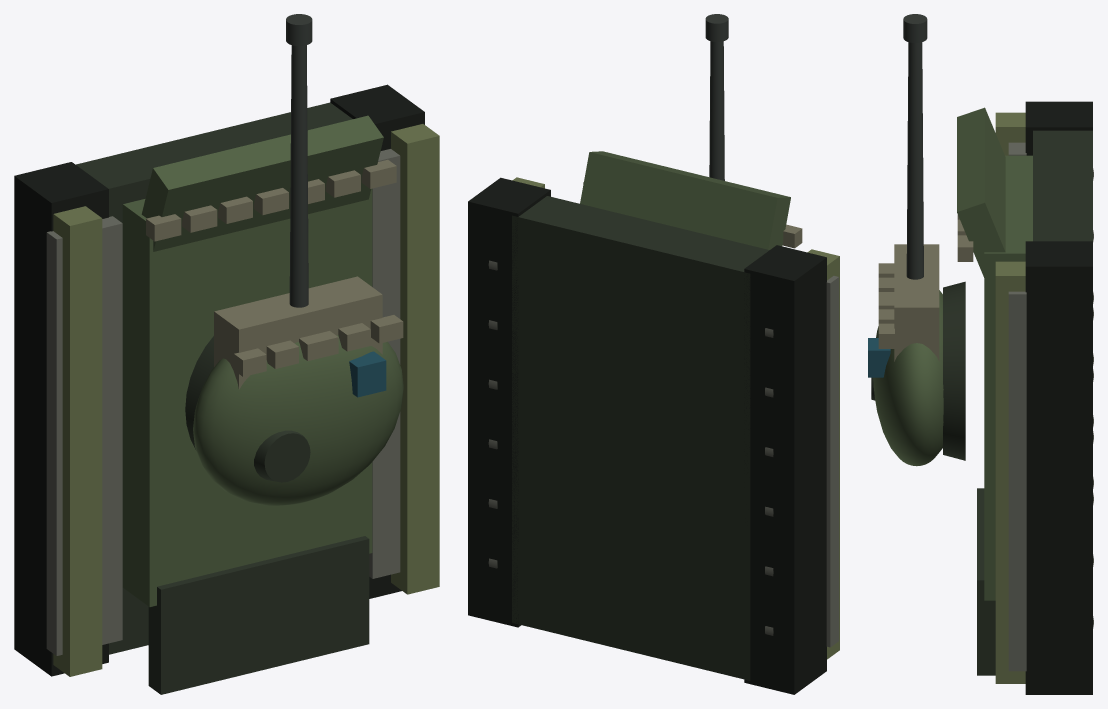
3 renders of one model, left to right at view 1: azimuth 30°, elevation 25°; view 2: azimuth 150°, elevation 25°; view 3: azimuth 270°, elevation 25°, orthographic. The views are drawn at different scales.
Visible parts, largest first — view 1: twardy_hull_upper, rear_deck, twardy_low_turret, left_skirt_erawa, left_track_rubber, right_skirt_erawa, left_track_guard, front_glacis, twardy_hull_lower, right_track_guard, front_erawa_plate, barrel_tube (+12 smaller); view 2: twardy_hull_lower, left_track_rubber, right_track_rubber, front_glacis, left_track_guard, barrel_tube, left_skirt_erawa, muzzle_collar; view 3: right_track_rubber, right_track_guard, twardy_hull_upper, twardy_low_turret, twardy_hull_lower, right_skirt_erawa, front_glacis, front_erawa_plate, turret_ring, barrel_tube, rear_deck, left_track_rubber (+5 smaller).
Part boxes in pixels (x1,y1,x2,y2): twardy_hull_upper: [122, 188, 372, 606]; rear_deck: [148, 536, 369, 694]; twardy_low_turret: [193, 335, 403, 505]; left_skirt_erawa: [53, 206, 102, 676]; left_track_rubber: [14, 162, 108, 676]; right_skirt_erawa: [391, 124, 439, 594]; left_track_guard: [46, 216, 122, 655]; front_glacis: [141, 115, 383, 251]; twardy_hull_lower: [76, 102, 352, 654]; right_track_guard: [369, 149, 400, 578]; front_erawa_plate: [214, 276, 382, 389]; barrel_tube: [289, 45, 308, 307]; twardy_hull_lower: [512, 196, 769, 680]; left_track_rubber: [744, 245, 826, 694]; right_track_rubber: [468, 177, 550, 627]; front_glacis: [580, 151, 790, 249]; left_track_guard: [826, 276, 838, 647]; barrel_tube: [709, 41, 724, 180]; left_skirt_erawa: [807, 249, 839, 659]; muzzle_collar: [705, 14, 728, 41]; right_track_rubber: [1025, 241, 1092, 694]; right_track_guard: [1008, 291, 1026, 671]; twardy_hull_upper: [984, 155, 1032, 600]; twardy_low_turret: [873, 290, 943, 466]; twardy_hull_lower: [1033, 130, 1092, 241]; right_skirt_erawa: [995, 261, 1025, 683]; front_glacis: [957, 107, 1005, 277]; front_erawa_plate: [894, 244, 939, 361]; turret_ring: [943, 281, 965, 460]; barrel_tube: [906, 42, 923, 279]; rear_deck: [977, 488, 995, 675]; left_track_rubber: [1025, 101, 1092, 155].
Bounding box in the file's own units: 53.2 × 89.8 × 30.1.
